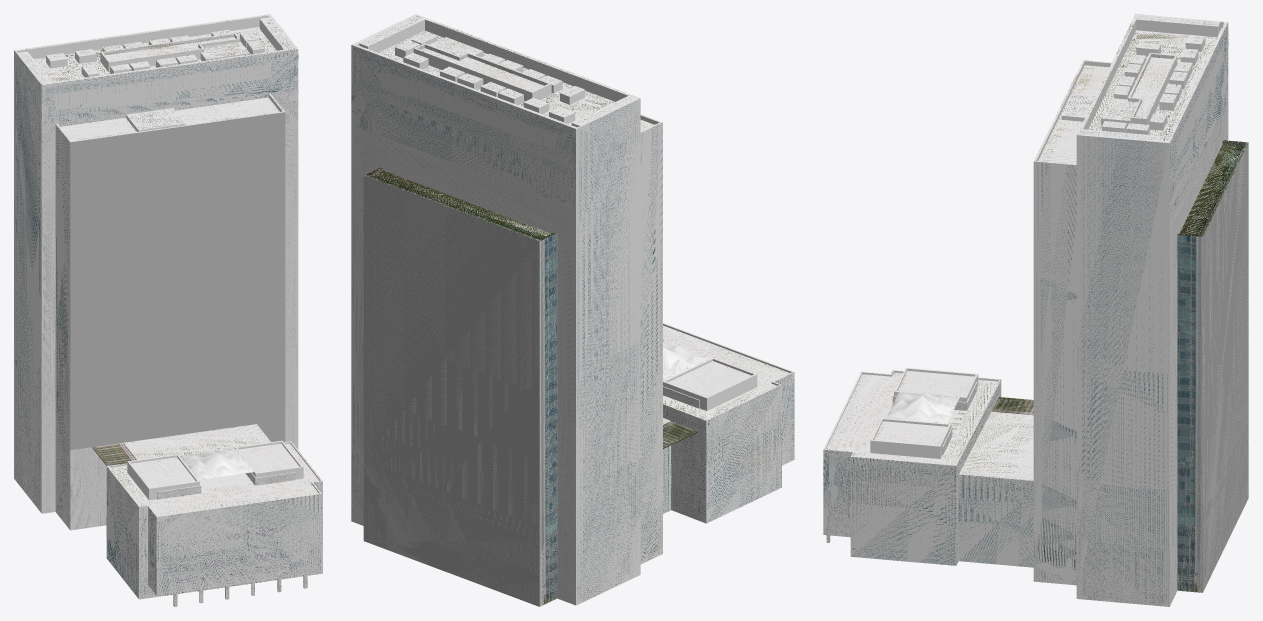
File: London,-10-Upper-Bank-Street.dae
The picture shows the model from 3 angles, left to right: view 1: azimuth 30°, elevation 25°; view 2: azimuth 150°, elevation 25°; view 3: azimuth 270°, elevation 25°; orthographic projection. The views are drawn at different scales.
Visible parts, largest first — view 1: SketchUp (×30); view 2: SketchUp (×21); view 3: SketchUp (×28).
Boxes of the visible parts, x1=… form: SketchUp (×30): x1=14, y1=14, x2=322, y2=606; SketchUp (×21): x1=351, y1=14, x2=794, y2=606; SketchUp (×28): x1=823, y1=14, x2=1248, y2=606.
Size of the model in its own units: 3766 by 4942 by 5945.
